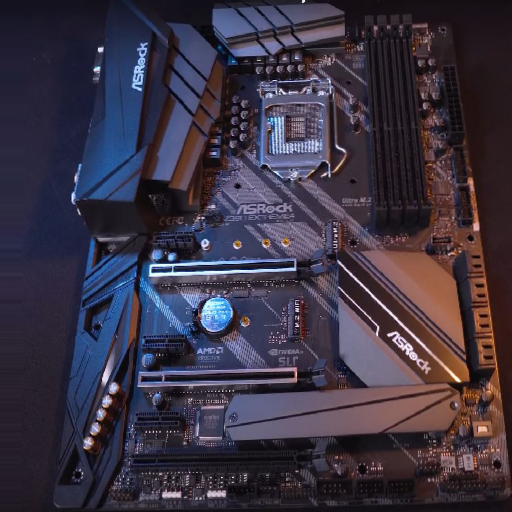CPU: (258, 91, 331, 176)
GPU: (134, 359, 327, 392), (134, 441, 328, 473), (146, 250, 325, 282)
MOTHERBOARD: (52, 10, 512, 505)
RAM: (359, 13, 432, 232)
SSD: (283, 296, 304, 342), (322, 220, 344, 254)
